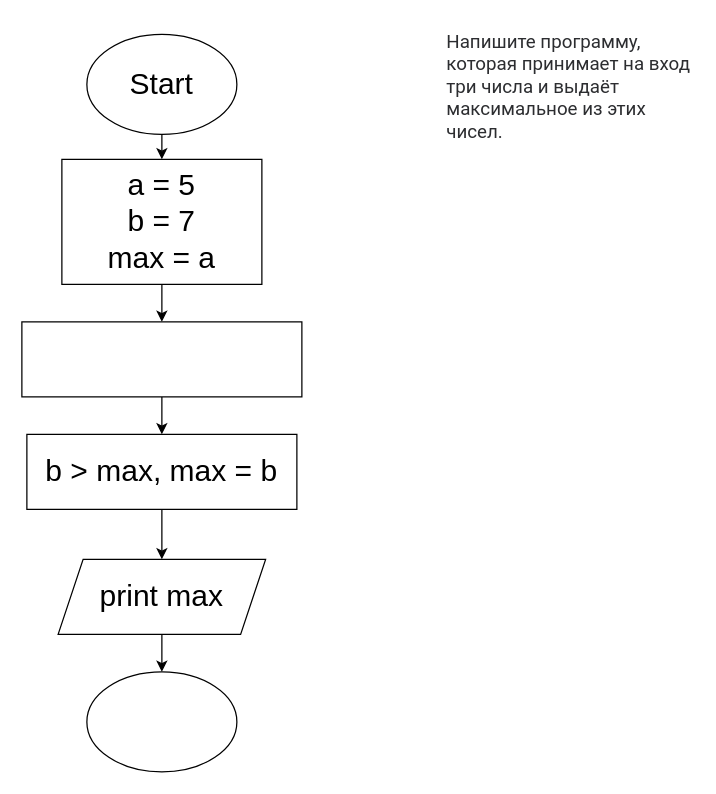
Some shapes in this 716 by 794 pixel diagram are drawn without their labels. The shapes that lost their labels are listed below. From the top down, each one's box as (x1, y1, x2, y2) in pixels, then its label:
(21, 321, 302, 397): a > max, max = a
(86, 671, 237, 772): End
